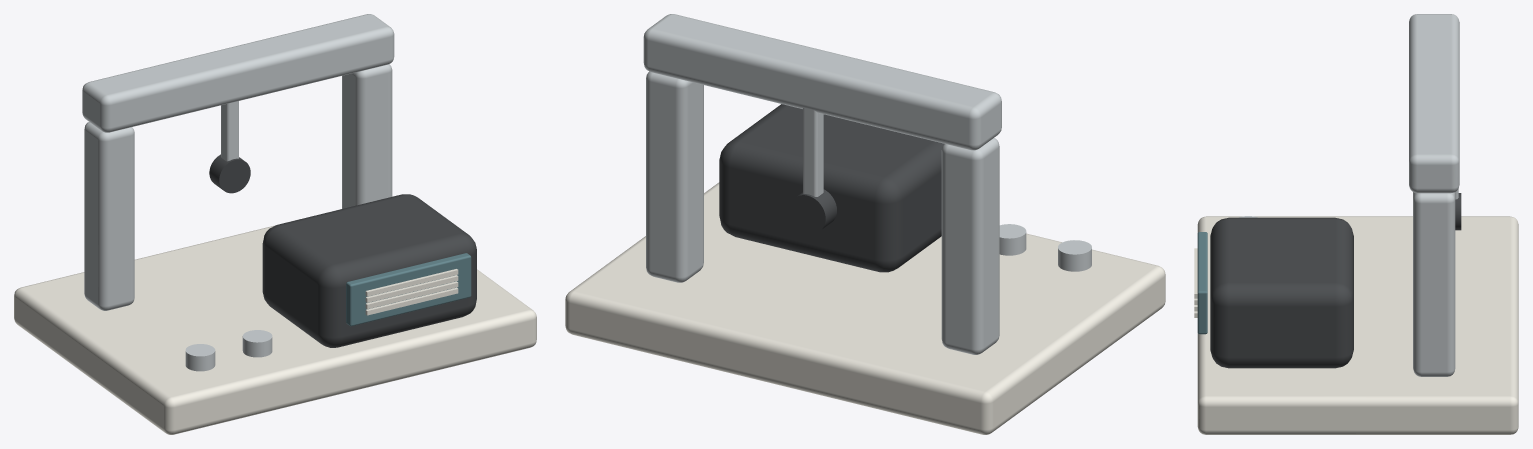
The model's file is camera-repair-and-darkroom-laboratory-shutter-timing-t-0939bef5__31776.glb.
The picture shows the model from 3 angles, left to right: view 1: azimuth 30°, elevation 25°; view 2: azimuth 150°, elevation 25°; view 3: azimuth 270°, elevation 25°; orthographic projection. The views are drawn at different scales.
Visible parts, largest first — view 1: shutter-timing-tester; view 2: shutter-timing-tester; view 3: shutter-timing-tester.
Part boxes in pixels (bbox=[...]): shutter-timing-tester: bbox=[14, 14, 536, 434]; shutter-timing-tester: bbox=[565, 14, 1165, 434]; shutter-timing-tester: bbox=[1194, 14, 1518, 434].
Size of the model in its own units: 0.26 by 0.17 by 0.192.
